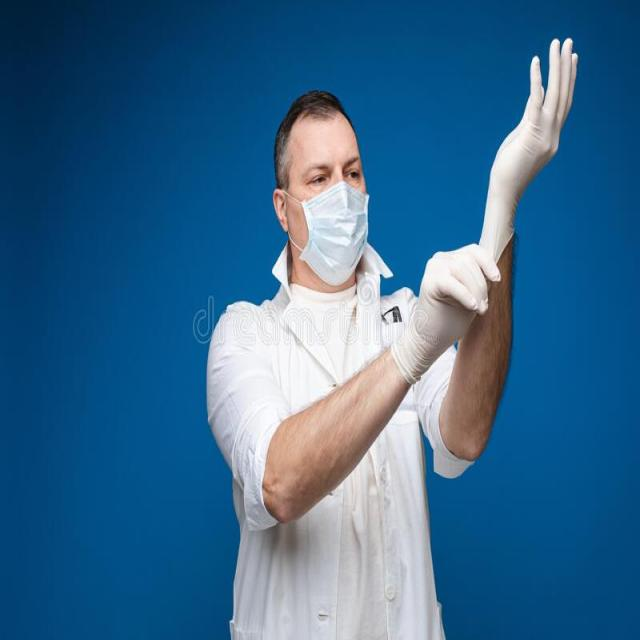Gloves: (479, 38, 579, 260), (391, 240, 502, 378)
Mask: (267, 164, 391, 299)
